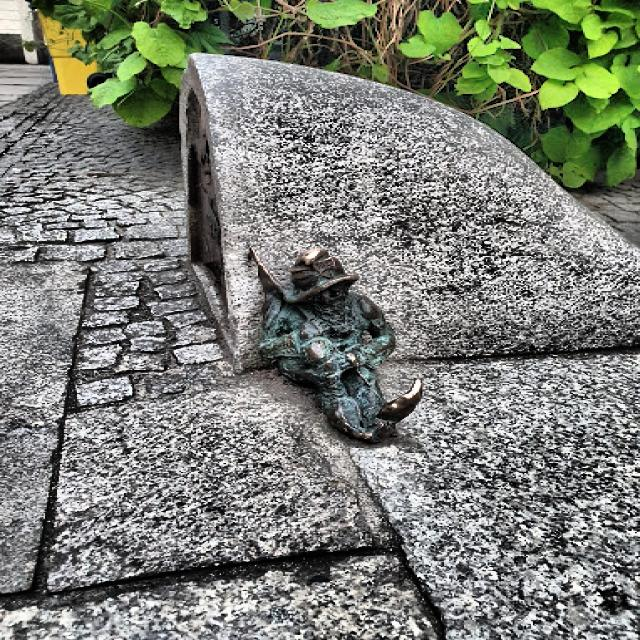Spioch: (253, 249, 422, 442)
